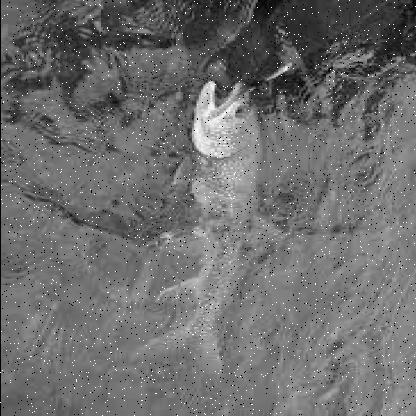fish: (129, 74, 291, 386)
